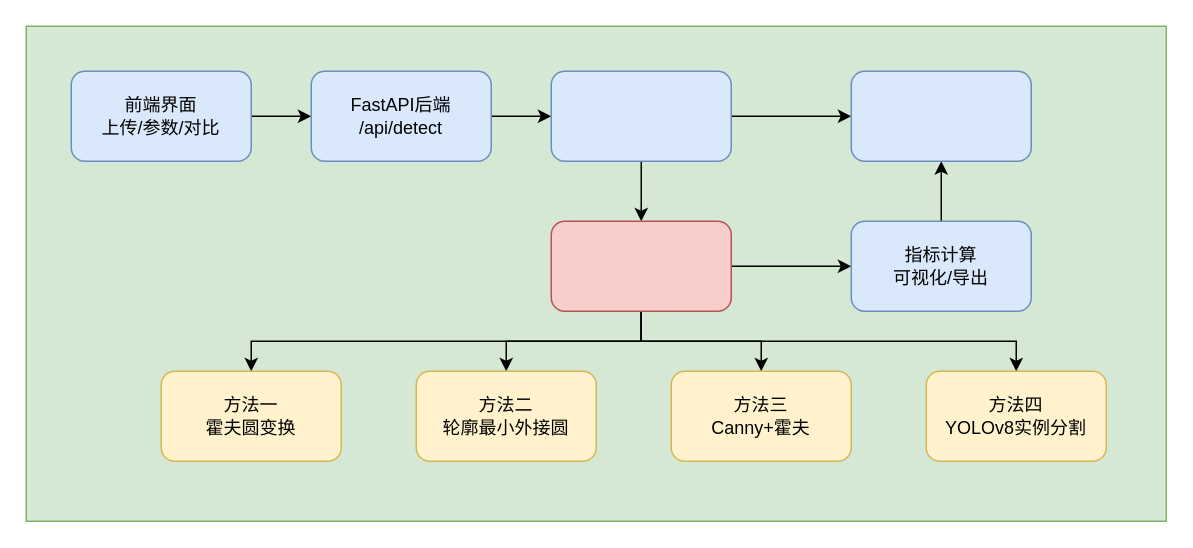
This 1193x548 diagram has some shape labels left out. The shapes that lost their labels are listed below. From the top down, each one's centre as x and y in pixels, then its label:
At point (640, 115): "图像解码".
At point (940, 115): "结果返回 Base64/JSON".
At point (640, 265): "算法调度 单方法/对比模式".
